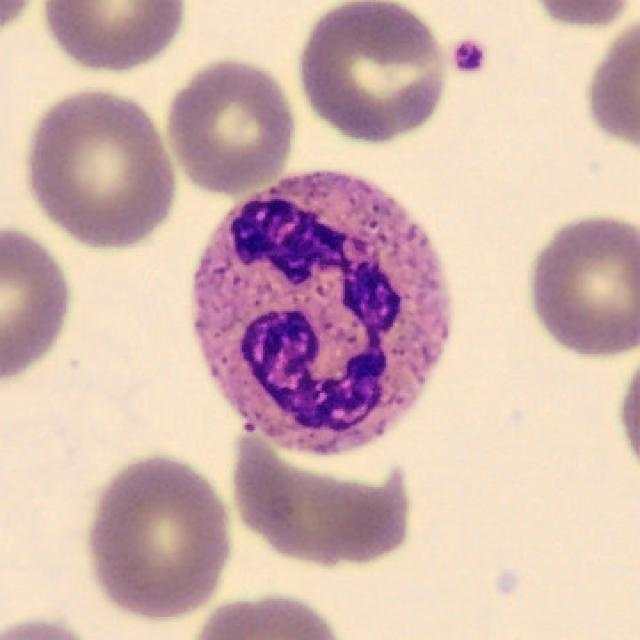Neutrofilo segmentado: (192, 171, 452, 457)
